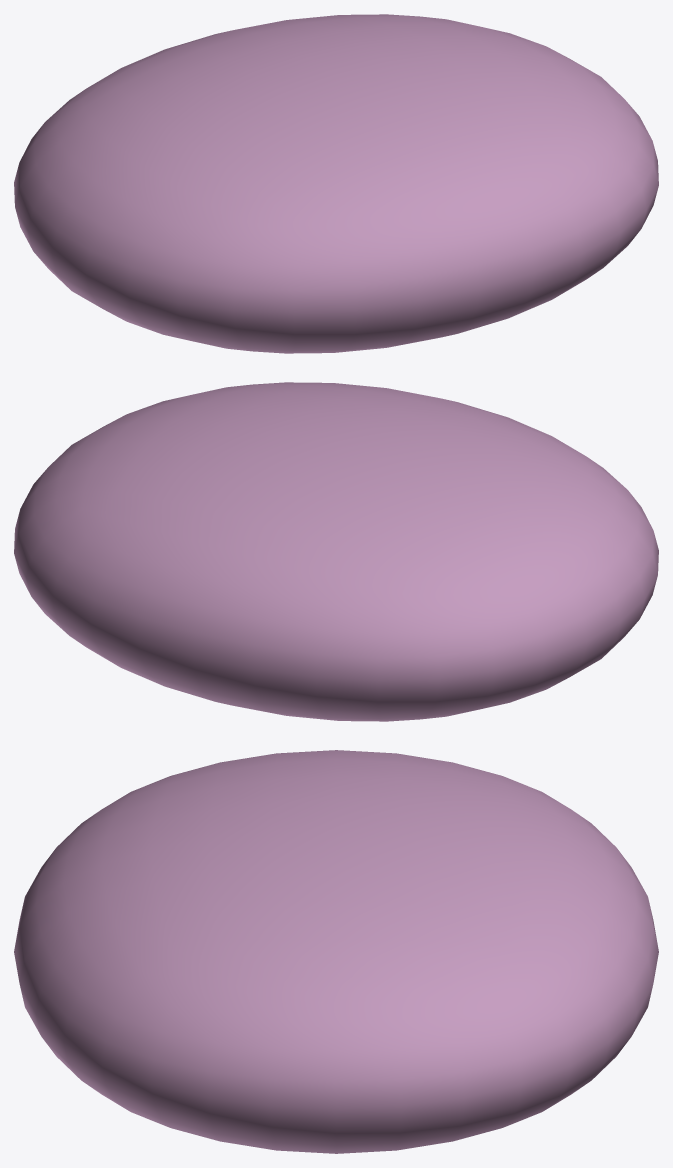
The model's file is Plant_Life_Blob.fbx.
3 renders of one model, top to bottom at view 1: azimuth 30°, elevation 25°; view 2: azimuth 150°, elevation 25°; view 3: azimuth 270°, elevation 25°, orthographic. The views are drawn at different scales.
Visible parts, largest first — view 1: Cube; view 2: Cube; view 3: Cube.
Boxes of the visible parts, <box> form: Cube: <box>14,14,658,353</box>; Cube: <box>14,382,658,721</box>; Cube: <box>14,750,658,1153</box>.
Size of the model in its own units: 1128 by 406 by 982.
